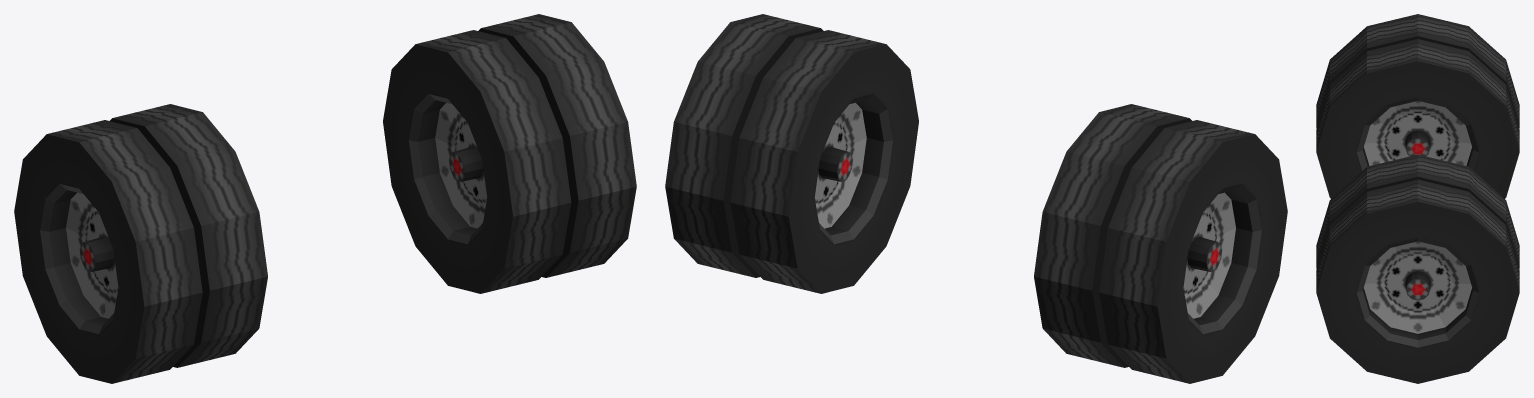
The model's file is Wheel_rearfake.fbx.
The picture shows the model from 3 angles, left to right: view 1: azimuth 30°, elevation 25°; view 2: azimuth 150°, elevation 25°; view 3: azimuth 270°, elevation 25°; orthographic projection. The views are drawn at different scales.
Parts seen in each view (by area): view 1: Wheel_truckbackdoyble; view 2: Wheel_truckbackdoyble; view 3: Wheel_truckbackdoyble.
Boxes of the visible parts, bbox=[...] form: Wheel_truckbackdoyble: bbox=[14, 14, 636, 383]; Wheel_truckbackdoyble: bbox=[665, 14, 1287, 383]; Wheel_truckbackdoyble: bbox=[1316, 14, 1519, 383].
Size of the model in its own units: 2.31 by 1.05 by 1.06.
